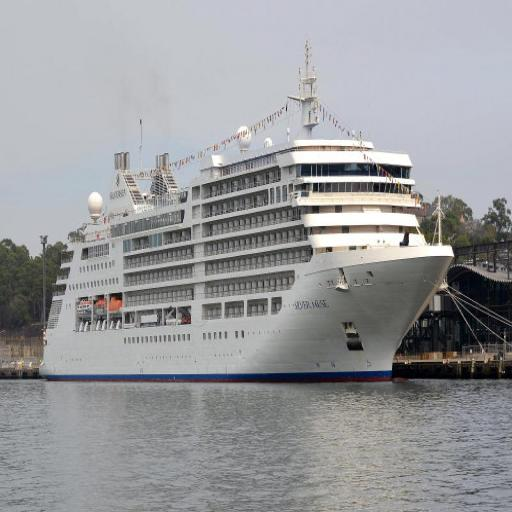cruises: (30, 34, 460, 396)
